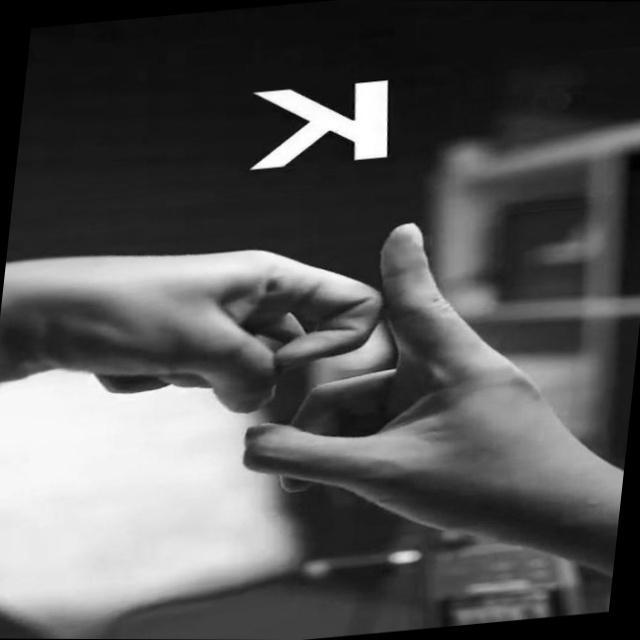K: (182, 201, 492, 508)
